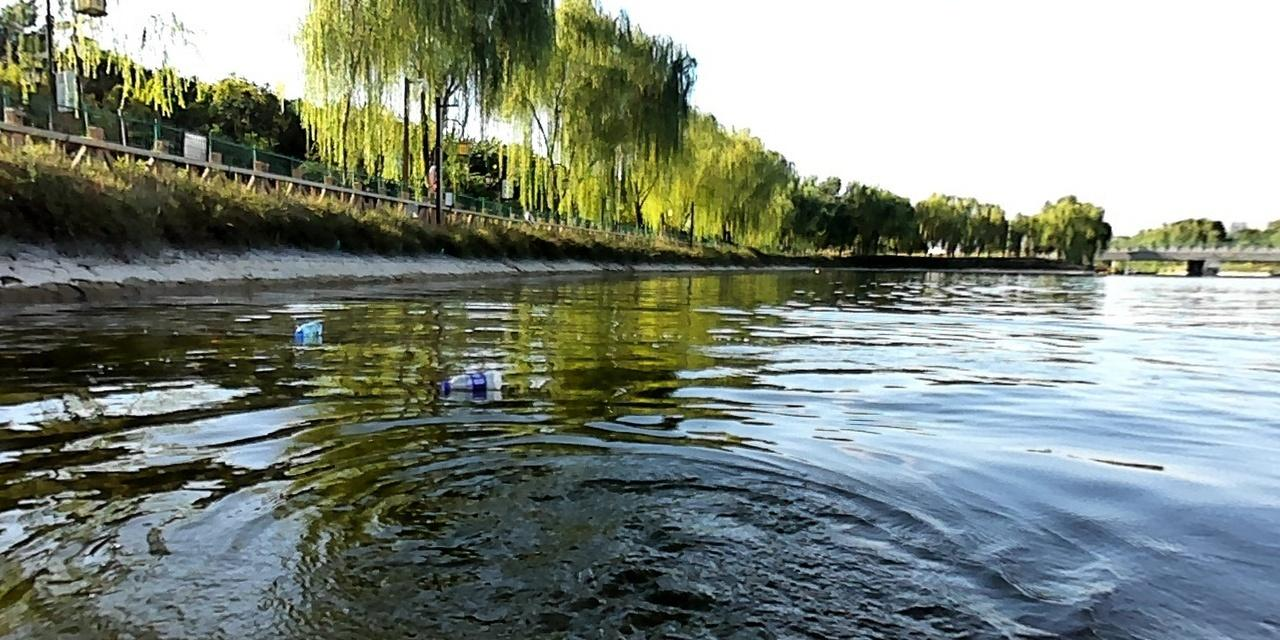bottle: (434, 367, 505, 393), (289, 316, 326, 340)
